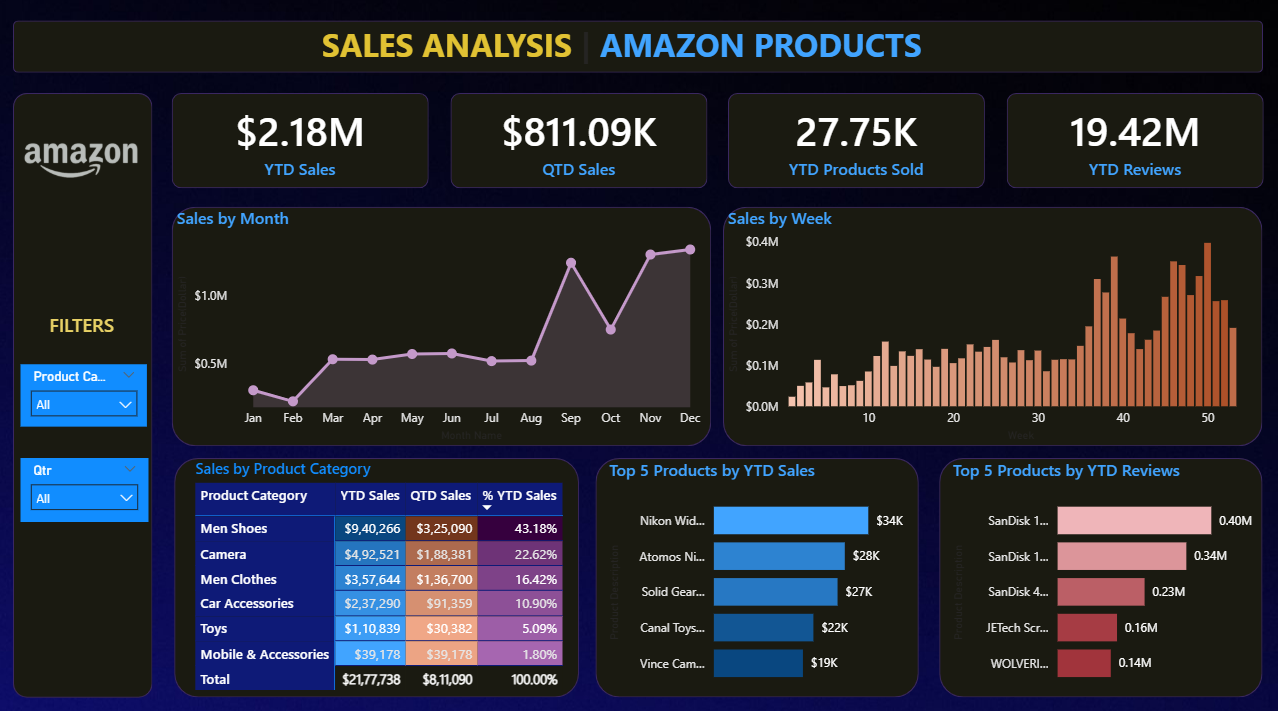

This screenshot's page, from the dashboard's own definition file:
{"tool":"powerbi","page":{"name":"Page 1","canvas":[1280,720],"ordinal":0},"visuals":[{"type":"shape","box":[15.1,95.3,139.5,604.7],"z":0},{"type":"shape","box":[452.3,95.3,257,95.3],"z":1000},{"type":"shape","box":[15.1,22.1,1250,52.3],"z":2000},{"type":"textbox","box":[318.6,19.8,633.7,54.7],"z":3000},{"type":"shape","box":[173.3,95.3,257,95.3],"z":4000},{"type":"card","fields":{"Values":["Amazon_Data.YTD Sales"]},"box":[173.3,95.3,257,95.3],"z":5000},{"type":"card","fields":{"Values":["Amazon_Data.QTDN Sales"]},"box":[452.3,95.3,257,95.3],"z":6000},{"type":"shape","box":[1008.1,95.3,257,95.3],"z":7000},{"type":"shape","box":[729.8,95.3,257,95.3],"z":8000},{"type":"card","fields":{"Values":["Amazon_Data.YTD Products Sold"]},"box":[730.2,95.3,257,95.3],"z":9000},{"type":"card","fields":{"Values":["Amazon_Data.YTD Reviews"]},"box":[1008.1,95.3,257,95.3],"z":10000},{"type":"shape","box":[173.3,208.1,539.5,239.5],"z":11000},{"type":"areaChart","title":"Sales by Month","fields":{"Category":["Date Table.Month Name"],"Y":["Sum(Amazon_Data.Price(Dollar))"]},"box":[173.3,208.1,539.5,239.5],"z":12000},{"type":"shape","box":[725.6,208.1,539.5,239.5],"z":13000},{"type":"columnChart","title":"Sales by Week","fields":{"Category":["Date Table.Week"],"Y":["Sum(Amazon_Data.Price(Dollar))"]},"box":[725.6,208.1,539.5,239.5],"z":14000},{"type":"shape","box":[176.7,460.5,404.7,239.5],"z":15000},{"type":"pivotTable","title":"Sales by Product Category","fields":{"Rows":["Amazon_Data.Product Category"],"Values":["Amazon_Data.YTD Sales1","Amazon_Data.QTD Sales","Amazon_Data.YTD Sales"]},"box":[193,460.5,388.4,239.5],"z":16000},{"type":"shape","box":[597.7,460.5,323.3,239.5],"z":17000},{"type":"shape","box":[941.9,460.5,323.3,239.5],"z":18000},{"type":"clusteredBarChart","title":"Top 5 Products by YTD Sales","fields":{"Category":["Amazon_Data.Product Description"],"Y":["Amazon_Data.YTD Sales"]},"box":[605.8,460.5,315.1,239.5],"z":19000},{"type":"clusteredBarChart","title":"Top 5 Products by YTD Reviews","fields":{"Category":["Amazon_Data.Product Description"],"Y":["Amazon_Data.YTD Reviews"]},"box":[950,460.5,315.1,239.5],"z":20000},{"type":"slicer","fields":{"Values":["Amazon_Data.Product Category"]},"box":[22.1,366.3,126.7,62.8],"z":21000},{"type":"slicer","fields":{"Values":["Date Table.Qtr"]},"box":[22.1,460.5,127.9,64],"z":21001},{"type":"image","box":[15.1,95.3,139.5,140.7],"z":21002},{"type":"textbox","box":[46.5,308.1,93,39.5],"z":21003}]}

Visuals, with their boxes in screenshot pixels (x1, y1, x2, y2), scaled from the page's 1280x720 canvas onto the 1278x711 screenshot:
shape: {"x1": 15, "y1": 94, "x2": 154, "y2": 691}
shape: {"x1": 452, "y1": 94, "x2": 708, "y2": 188}
shape: {"x1": 15, "y1": 22, "x2": 1263, "y2": 73}
textbox: {"x1": 318, "y1": 20, "x2": 951, "y2": 74}
shape: {"x1": 173, "y1": 94, "x2": 430, "y2": 188}
card - Amazon_Data.YTD Sales: {"x1": 173, "y1": 94, "x2": 430, "y2": 188}
card - Amazon_Data.QTDN Sales: {"x1": 452, "y1": 94, "x2": 708, "y2": 188}
shape: {"x1": 1007, "y1": 94, "x2": 1263, "y2": 188}
shape: {"x1": 729, "y1": 94, "x2": 985, "y2": 188}
card - Amazon_Data.YTD Products Sold: {"x1": 729, "y1": 94, "x2": 986, "y2": 188}
card - Amazon_Data.YTD Reviews: {"x1": 1007, "y1": 94, "x2": 1263, "y2": 188}
shape: {"x1": 173, "y1": 205, "x2": 712, "y2": 442}
"Sales by Month" areaChart: {"x1": 173, "y1": 205, "x2": 712, "y2": 442}
shape: {"x1": 724, "y1": 205, "x2": 1263, "y2": 442}
"Sales by Week" columnChart: {"x1": 724, "y1": 205, "x2": 1263, "y2": 442}
shape: {"x1": 176, "y1": 455, "x2": 580, "y2": 691}
"Sales by Product Category" pivotTable: {"x1": 193, "y1": 455, "x2": 580, "y2": 691}
shape: {"x1": 597, "y1": 455, "x2": 920, "y2": 691}
shape: {"x1": 940, "y1": 455, "x2": 1263, "y2": 691}
"Top 5 Products by YTD Sales" clusteredBarChart: {"x1": 605, "y1": 455, "x2": 919, "y2": 691}
"Top 5 Products by YTD Reviews" clusteredBarChart: {"x1": 949, "y1": 455, "x2": 1263, "y2": 691}
slicer - Amazon_Data.Product Category: {"x1": 22, "y1": 362, "x2": 149, "y2": 424}
slicer - Date Table.Qtr: {"x1": 22, "y1": 455, "x2": 150, "y2": 518}
image: {"x1": 15, "y1": 94, "x2": 154, "y2": 233}
textbox: {"x1": 46, "y1": 304, "x2": 139, "y2": 343}
